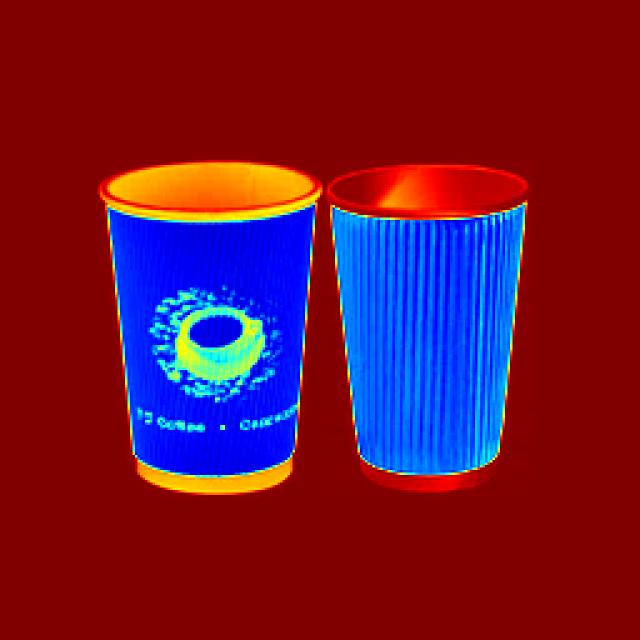Paper Cups: (328, 152, 530, 498)
